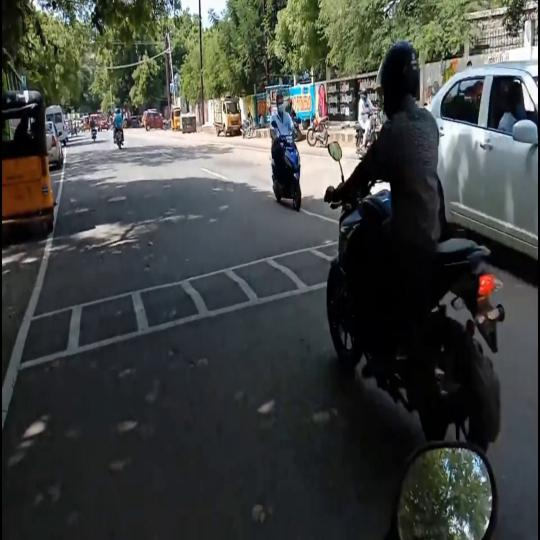Speed Bump: (2, 245, 326, 364)
